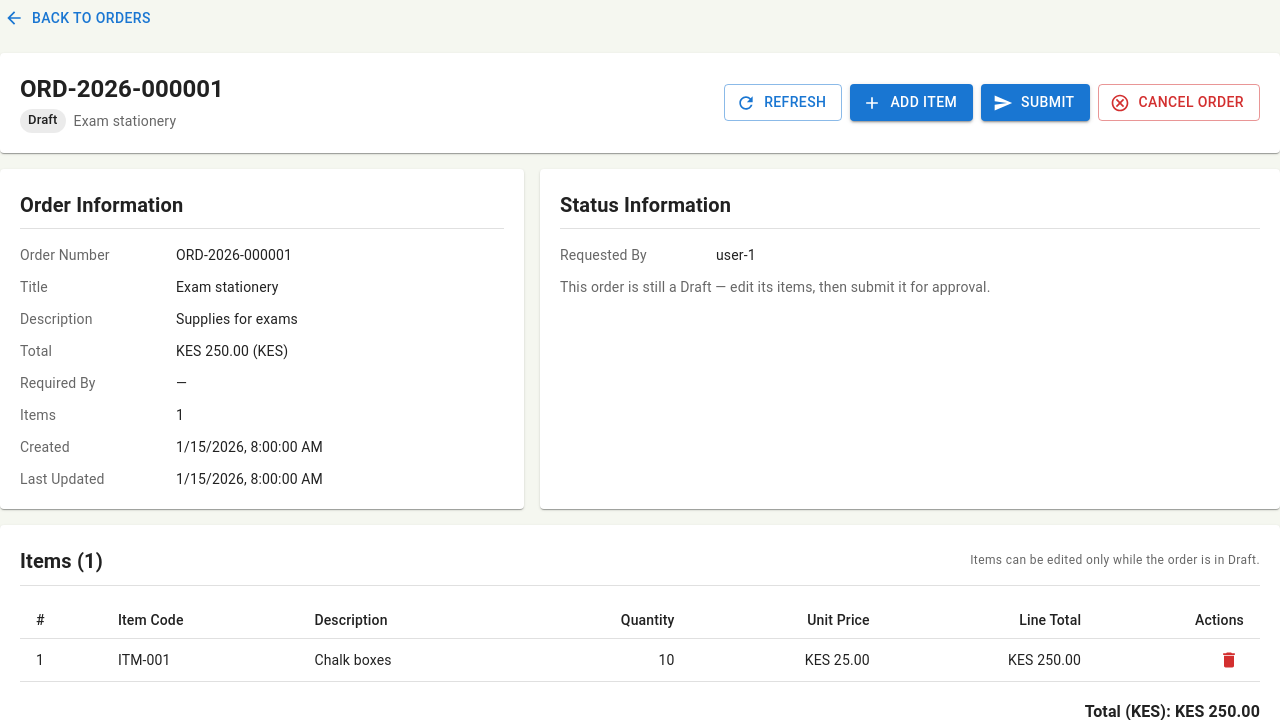
Test: OmsOrderDetail — workflow › shows the server validation error in the add-item dialog
Click the button "Add Item" at (912, 103), box [850,84,973,121]
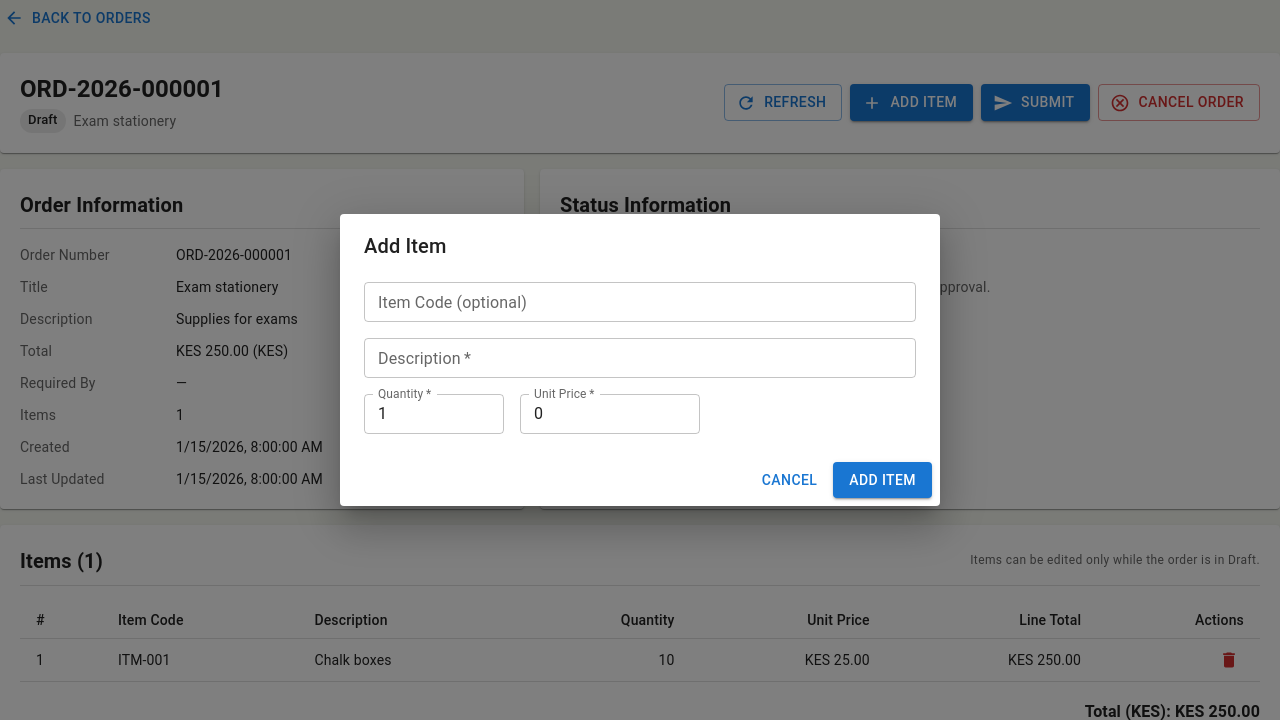
Type "Markers" into the field labelled "Description *" at (640, 358), box [364,338,916,378]
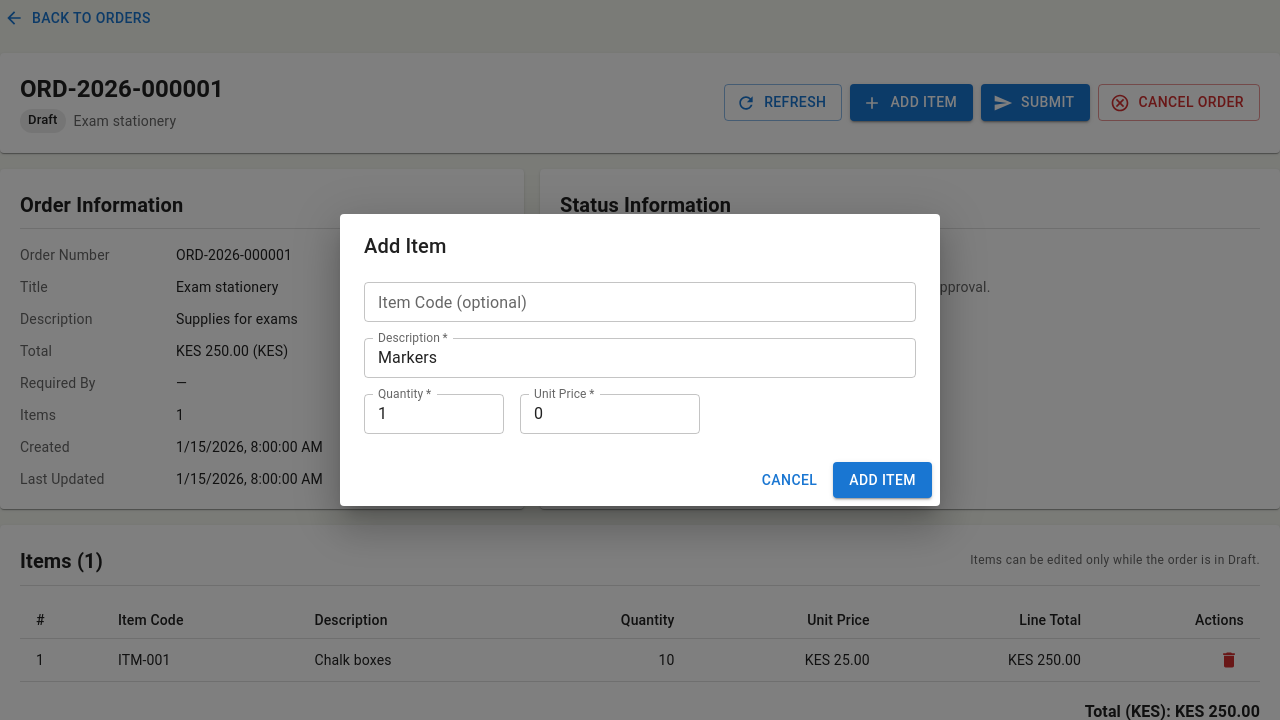
Click the button "Add Item" at (883, 480), box [833,462,932,498]
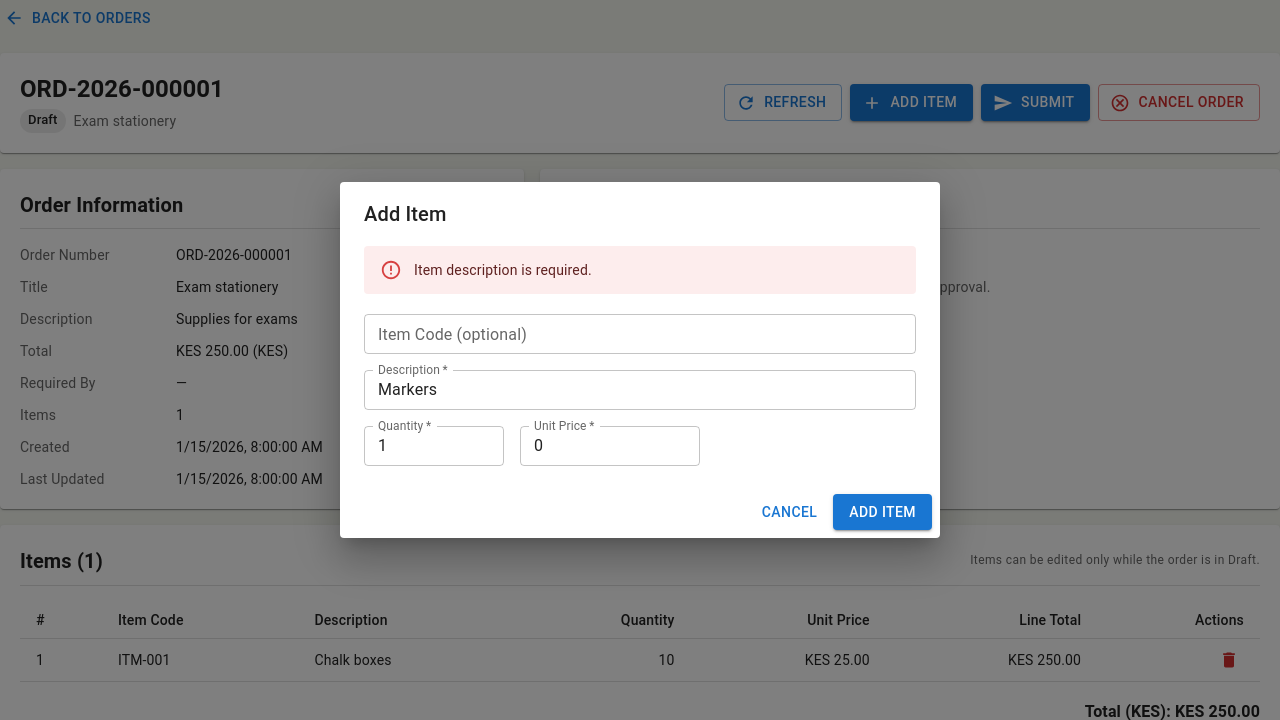
Check: the text "Item description is required." is shown, box [414,262,592,278]
